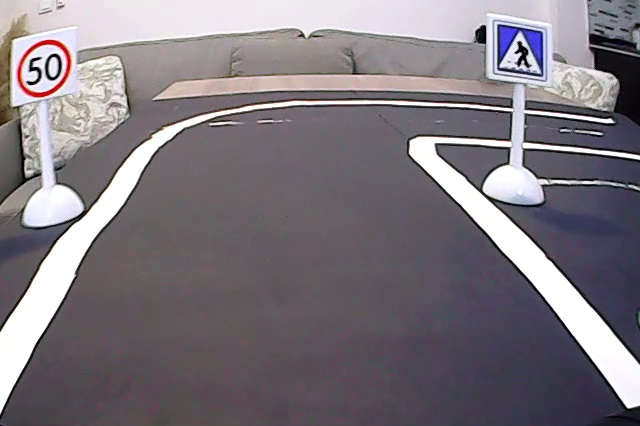pedestrian crossing: (490, 18, 548, 81)
speed limit 50: (16, 37, 73, 98)
